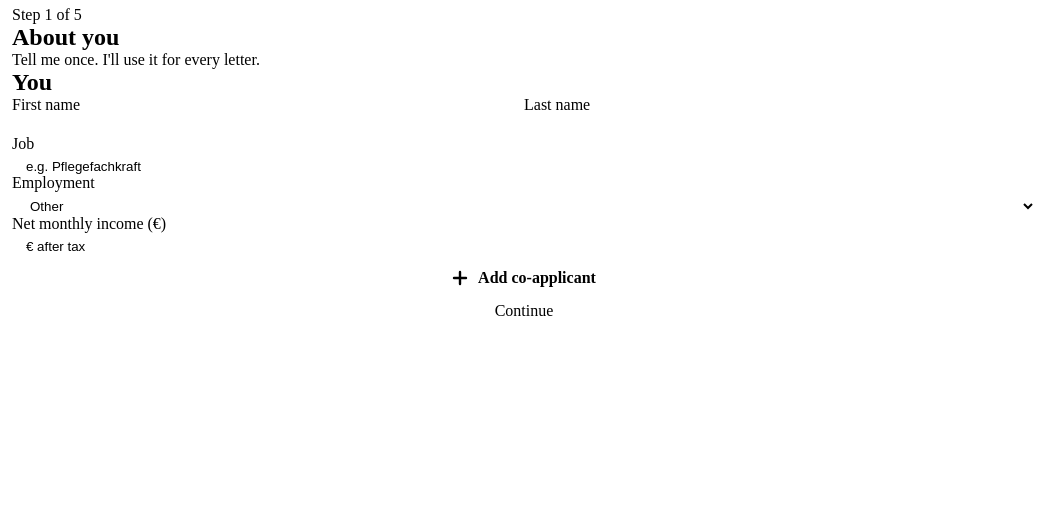
Test: Onboarding › adds a co-applicant and counts them as an adult
Click the button "Add co-applicant": (524, 278) top-left (12, 254), bottom-right (1036, 302)
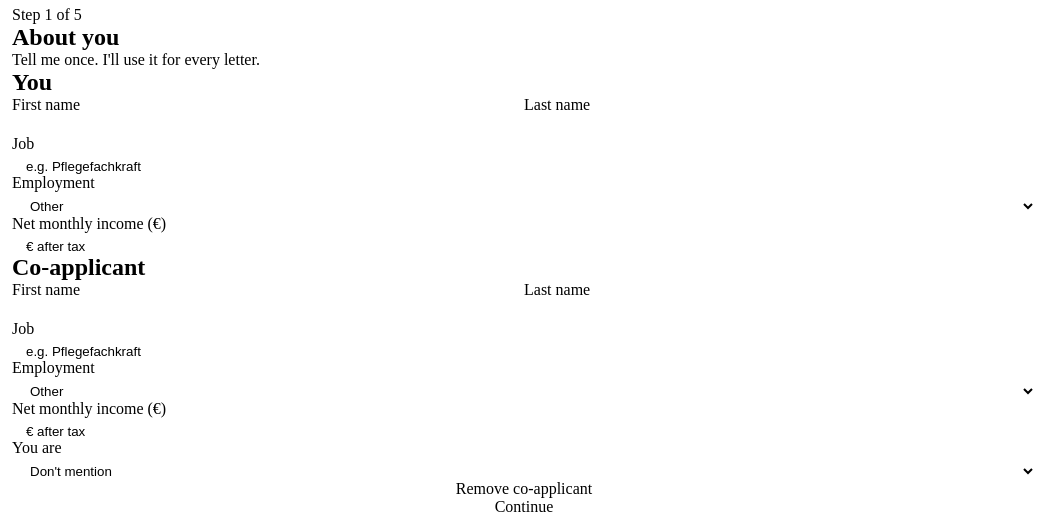
Now the heading "Co-applicant" is shown, box top-left (12, 254), bottom-right (145, 281)
Now the number of fields labelled "First name" is 2, box top-left (12, 120), bottom-right (524, 135); top-left (12, 305), bottom-right (524, 320)
